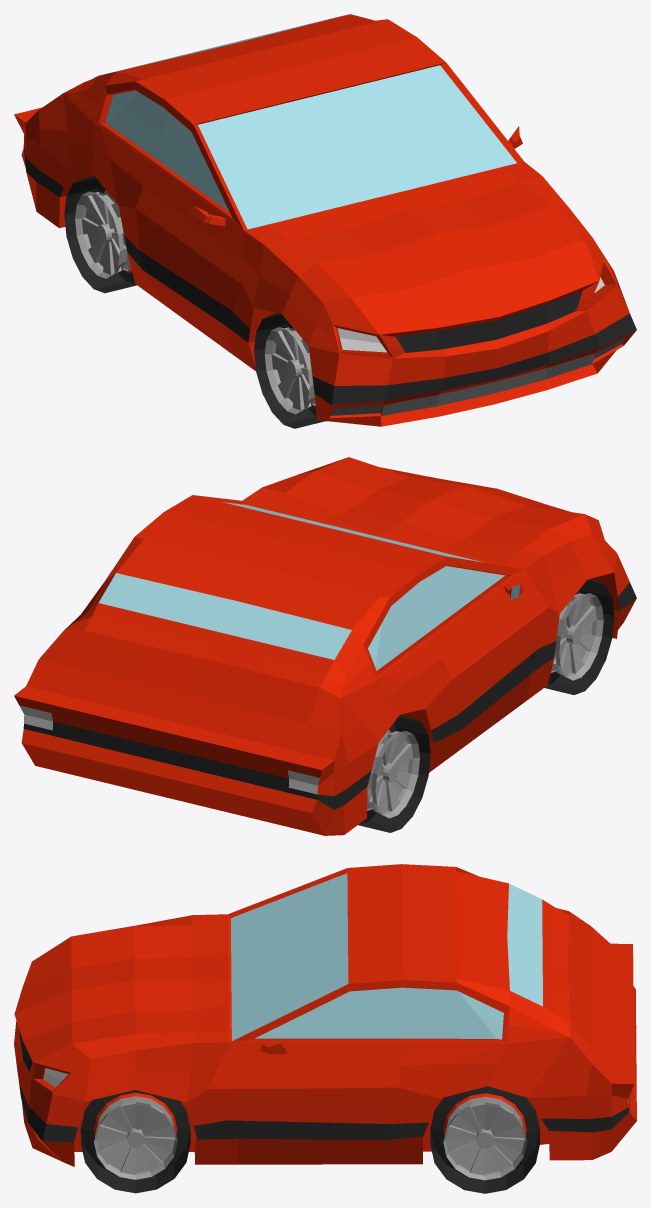
The model's file is car2.fbx.
3 views of the same model, one above another, from view 1: azimuth 30°, elevation 25°; view 2: azimuth 150°, elevation 25°; view 3: azimuth 270°, elevation 25° (orthographic). The views are drawn at different scales.
Visible parts, largest first — view 1: Cube; view 2: Cube; view 3: Cube.
Boxes of the visible parts, x1,y1,x2,y2 form: Cube: [14, 14, 636, 428]; Cube: [14, 457, 636, 835]; Cube: [14, 864, 636, 1193].
Bounding box in the file's own units: 223 × 139 × 388.
